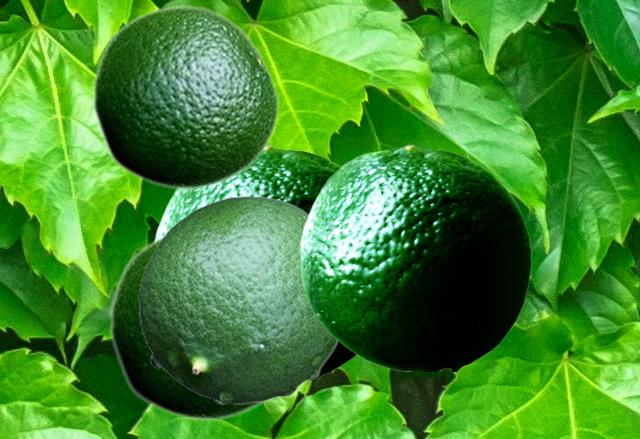calamansi: (300, 144, 530, 370), (153, 144, 357, 379), (138, 195, 340, 403), (91, 4, 279, 190), (108, 233, 270, 421)
